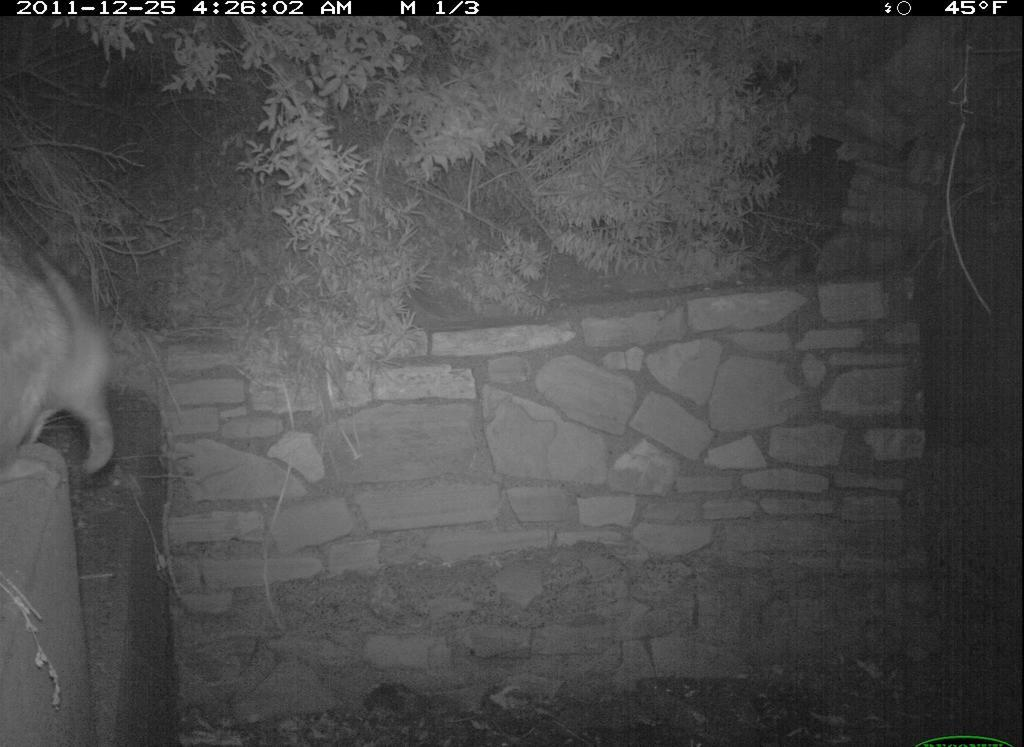raccoon: (2, 232, 125, 481)
